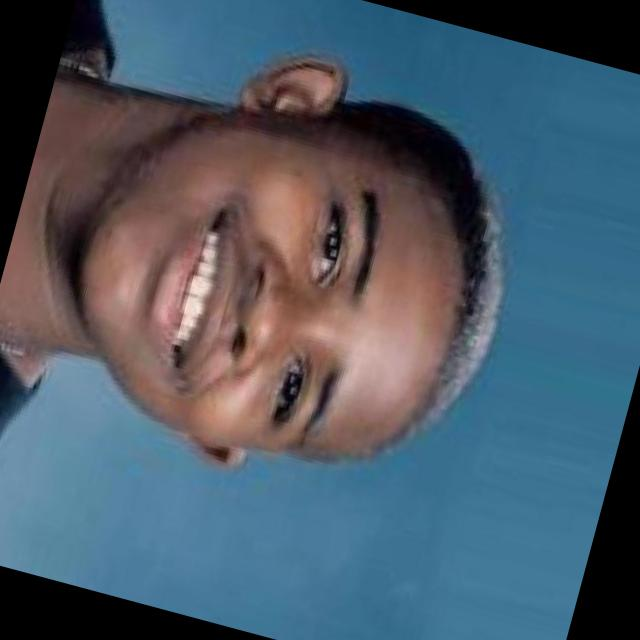bareface: (58, 72, 494, 493)
